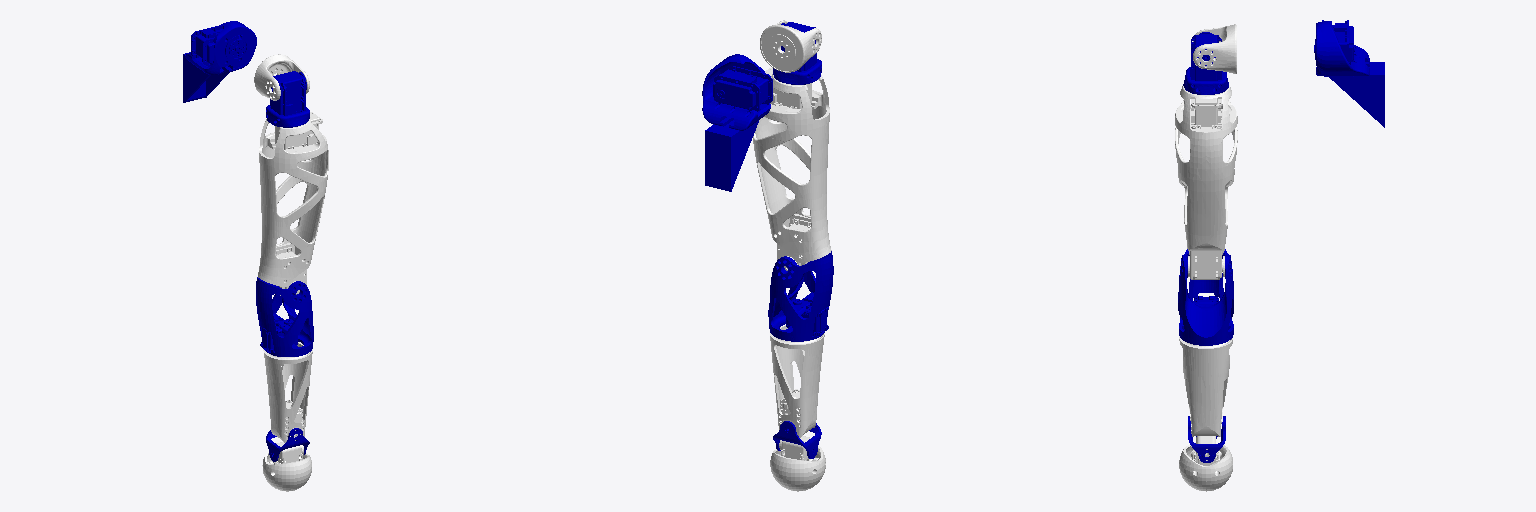
URDF robot description (Reachy):
<?xml version="1.0"?>
<robot name="Reachy">

  <material name="blue">
    <color rgba="0 0 0.8 1"/>
  </material>

  <material name="white">
    <color rgba="1 1 1 1"/>
  </material>

  <material name="red">
    <color rgba="0.8 0 0 1"/>
  </material>

  <link name="base">
    <visual>
      <geometry>
        <mesh filename="package://reachy/meshes/shoulder-y-visual.stl"></mesh>
      </geometry>
      <material name="blue"/>
    </visual>
    <inertial>
      <inertia ixx= "1.043e-4" ixy= "6.147e-6" ixz= "-1.971e-6" iyy= "1.364e-4" iyz= "1.466e-5" izz= "1.403e-4" ></inertia>
      <mass value="0.221"></mass>
    </inertial>
    <collision>
      <origin xyz="0 0 0" rpy="0 0 0"></origin>
      <geometry>
        <mesh filename="package://reachy/meshes/shoulder-y-respondable.stl"></mesh>
      </geometry>
    </collision>
  </link>

  <link name="shoulder">
    <visual>
      <origin xyz="0 0 0" rpy="0 0 0"></origin>
      <geometry>
        <mesh filename="package://reachy/meshes/shoulder-visual.stl"></mesh>
      </geometry>
      <material name="white"/>
    </visual>
    <inertial>
      <inertia ixx= "1.299e-5" ixy= "5.557e-10" ixz= "-2.973e-10" iyy= "2.323e-5" iyz= "-8.199e-8" izz= "2.227e-5" ></inertia>
      <mass value="0.036"></mass>
    </inertial>
    <collision>
      <origin xyz="0 0 0" rpy="0 0 0"></origin>
      <geometry>
        <mesh filename="package://reachy/meshes/shoulder-respondable.stl"></mesh>
      </geometry>
    </collision>

  </link>

  <link name="shoulder_to_arm">
    <visual>
      <geometry>
        <mesh filename="package://reachy/meshes/shoulder-x-visual.stl"></mesh>
      </geometry>
      <origin rpy="0 0 0" xyz="0 0 0"/>
      <material name="blue"/>
    </visual>
    <inertial>
      <inertia ixx= "6.811e-5" ixy= "-2.299e-10" ixz= "-4.502e-7" iyy= "7.593e-5" iyz= "-1.674e-9" izz= "4.248e-5" ></inertia>
      <mass value="0.155"></mass>
    </inertial>
    <collision>
      <origin xyz="0 0 0" rpy="0 0 0"></origin>
      <geometry>
        <mesh filename="package://reachy/meshes/shoulder-x-respondable.stl"></mesh>
      </geometry>
    </collision>
  </link>

  <link name="upper_arm">
    <visual>
      <geometry>
        <mesh filename="package://reachy/meshes/upper-arm-visual.stl"></mesh>
      </geometry>
      <origin rpy="0 0 0" xyz="0 0 0"/>
      <material name="white"/>
    </visual>
    <inertial>
      <inertia ixx= "4.171e-3" ixy= "1.333e-7" ixz= "-2.900e-4" iyy= "4.276e-3" iyz= "1.465e-6" izz= "3.177e-4" ></inertia>
      <mass value="0.430"></mass>
    </inertial>
    <collision>
      <origin xyz="0 0 0" rpy="0 0 0"></origin>
      <geometry>
        <mesh filename="package://reachy/meshes/upper-arm-respondable.stl"></mesh>
      </geometry>
    </collision>
  </link>

  <link name="forearm">
    <visual>
      <origin xyz="0 0 0" rpy="0 0 0"></origin>
      <geometry>
        <mesh filename="package://reachy/meshes/forearm-visual.stl"></mesh>
      </geometry>
      <origin rpy="0 0 0" xyz="0 0 0"/>
      <material name="blue"/>
    </visual>
    <inertial>
      <inertia ixx= "1.724e-4" ixy= "-1.733e-8" ixz= "1.854e-5" iyy= "1.815e-4" iyz= "-4.191e-8" izz= "9.299e-5" ></inertia>
      <mass value="0.129"></mass>
    </inertial>
    <collision>
      <origin xyz="0 0 0" rpy="0 0 0"></origin>
      <geometry>
        <mesh filename="package://reachy/meshes/forearm-respondable.stl"></mesh>
      </geometry>
    </collision>
  </link>

  <link name="wrist">
    <visual>
      <origin xyz="0 0 0" rpy="0 0 0"></origin>
      <geometry>
        <mesh filename="package://reachy/meshes/wrist-visual.stl"></mesh>
      </geometry>
      <origin rpy="0 0 0" xyz="0 0 0"/>
      <material name="white"/>
    </visual>
    <inertial>
      <inertia ixx= "2.215e-4" ixy= "-2.163e-8" ixz= "-4.702e-6" iyy= "2.306e-4" iyz= "-6.577e-7" izz= "5.075e-5" ></inertia>
      <mass value="0.115"></mass>
    </inertial>
    <collision>
      <origin xyz="0 0 0" rpy="0 0 0"></origin>
      <geometry>
        <mesh filename="package://reachy/meshes/wrist-respondable.stl"></mesh>
      </geometry>
    </collision>
  </link>

  <link name="wrist_hand">
    <visual>
      <geometry>
        <mesh filename="package://reachy/meshes/wrist-hand-visual.stl"></mesh>
      </geometry>
      <origin rpy="0 0 0" xyz="0 0 0"/>
      <material name="blue"/>
    </visual>
    <inertial>
      <inertia ixx= "3.861e-6" ixy= "-2.805e-9" ixz= "-8.067e-8" iyy= "3.694e-6" iyz= "-7.689e-8" izz= "4.987e-6" ></inertia>
      <mass value="0.009"></mass>
    </inertial>
    <collision>
      <origin xyz="0 0 0" rpy="0 0 0"></origin>
      <geometry>
        <mesh filename="package://reachy/meshes/wrist-hand-respondable.stl"></mesh>
      </geometry>
    </collision>

  </link>

  <link name="hand_ball">
    <visual>
      <geometry>
        <mesh filename="package://reachy/meshes/ball-tip-visual.stl"></mesh>
      </geometry>
      <origin rpy="0 0 0" xyz="0 0 0"/>
      <material name="white"/>
    </visual>
    <inertial>
      <inertia ixx= "4.177e-5" ixy= "2.340e-9" ixz= "3.492e-8" iyy= "4.290e-5" iyz= "-2.318e-11" izz= "3.596e-5" ></inertia>
      <mass value="0.090"></mass>
    </inertial>
    <collision>
      <origin xyz="0 0 0" rpy="0 0 0"></origin>
      <geometry>
        <mesh filename="package://reachy/meshes/ball-tip-respondable.stl"></mesh>
      </geometry>
    </collision>
  </link>

<!--   <link name="ball">
    <visual>
      <geometry>
        <sphere radius="0.02"/>
      </geometry>
      <origin rpy="0 0 0" xyz="0 0 0"/>
      <material name="red"/>
    </visual>
  </link> -->

  <joint name="r_shoulder_pitch" type="revolute">
    <parent link="base"/>
    <child link="shoulder"/>
    <origin rpy="0 0 0" xyz="0 -0.14 0"/>
    <axis xyz="0 1 0"/>
    <limit lower="-1.5708" upper="3.14159"/>
  </joint>

  <joint name="r_shoulder_roll" type="revolute">
    <parent link="shoulder"/>
    <child link="shoulder_to_arm"/>
    <origin rpy="0 0 0" xyz="0 0 0"/>
    <axis xyz="1 0 0"/>
    <limit lower="-3.14159" upper="0.174533"/>
  </joint>

  <joint name="r_arm_yaw" type="revolute">
    <parent link="shoulder_to_arm"/>
    <child link="upper_arm"/>
    <origin rpy="0 0 0" xyz="0 0 0"/>
    <axis xyz="0 0 1"/>
    <limit lower="-1.5708" upper="1.5708"/>
  </joint>

  <joint name="r_elbow_pitch" type="revolute">
    <parent link="upper_arm"/>
    <child link="forearm"/>
    <origin rpy="0 0 0" xyz="0 0 -0.30745"/>
    <axis xyz="0 1 0"/>
    <limit lower="-2.18166" upper="0"/>
  </joint>

  <joint name="r_forearm_yaw" type="revolute">
    <parent link="forearm"/>
    <child link="wrist"/>
    <origin rpy="0 0 0" xyz="0 0 0"/>
    <axis xyz="0 0 1"/>
    <limit lower="-2.61799" upper="2.61799"/>
  </joint>

  <joint name="r_wrist_pitch" type="revolute">
    <parent link="wrist"/>
    <child link="wrist_hand"/>
    <origin rpy="0 0 0" xyz="0 0 -0.22425"/>
    <axis xyz="0 1 0"/>
    <limit lower="-1.22173" upper="1.22173"/>
  </joint>

  <joint name="r_wrist_roll" type="revolute">
    <parent link="wrist_hand"/>
    <child link="hand_ball"/>
    <origin rpy="0 0 0" xyz="0 0 -0.03243"/>
    <axis xyz="1 0 0"/>
    <limit lower="-1.0472" upper="1.0472"/>
  </joint>

</robot>

--- What the picture shows (computed from the rendered views, not written in the file) ---
The picture shows the robot from 3 angles, left to right: view 1: azimuth 30°, elevation 25°; view 2: azimuth 150°, elevation 25°; view 3: azimuth 270°, elevation 25°; orthographic projection.
Robot: Reachy — 8 links, 7 joints (7 revolute); root link base; default pose: every joint at zero.
Visible links, largest first — view 1: upper_arm, base, forearm, wrist, shoulder_to_arm, hand_ball, shoulder, wrist_hand; view 2: upper_arm, base, forearm, wrist, shoulder, hand_ball, shoulder_to_arm, wrist_hand; view 3: upper_arm, base, forearm, wrist, hand_ball, shoulder_to_arm, shoulder, wrist_hand.
Boxes of the visible links, x1,y1,x2,y2 form: upper_arm: (258,112,328,295); base: (183,21,256,102); forearm: (256,277,313,356); wrist: (263,342,312,442); shoulder_to_arm: (266,71,309,127); hand_ball: (262,442,311,491); shoulder: (254,54,309,100); wrist_hand: (266,428,309,461); upper_arm: (753,68,831,270); base: (702,54,772,191); forearm: (768,251,833,341); wrist: (770,324,824,437); shoulder: (760,20,821,72); hand_ball: (770,436,825,491); shoulder_to_arm: (773,22,821,84); wrist_hand: (773,421,821,458); upper_arm: (1175,85,1237,279); base: (1314,20,1384,127); forearm: (1178,249,1233,345); wrist: (1179,336,1232,436); hand_ball: (1179,436,1232,491); shoulder_to_arm: (1183,32,1228,94); shoulder: (1193,24,1236,73); wrist_hand: (1188,416,1225,462).
Bounding box of the posed robot: 0.1112 × 0.2704 × 0.6598 m (x, y, z).
Meshes: 8 distinct files referenced, 8 mesh visuals loaded (8 binary STL).